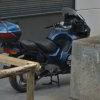Motorcycle: (5, 14, 81, 83)
